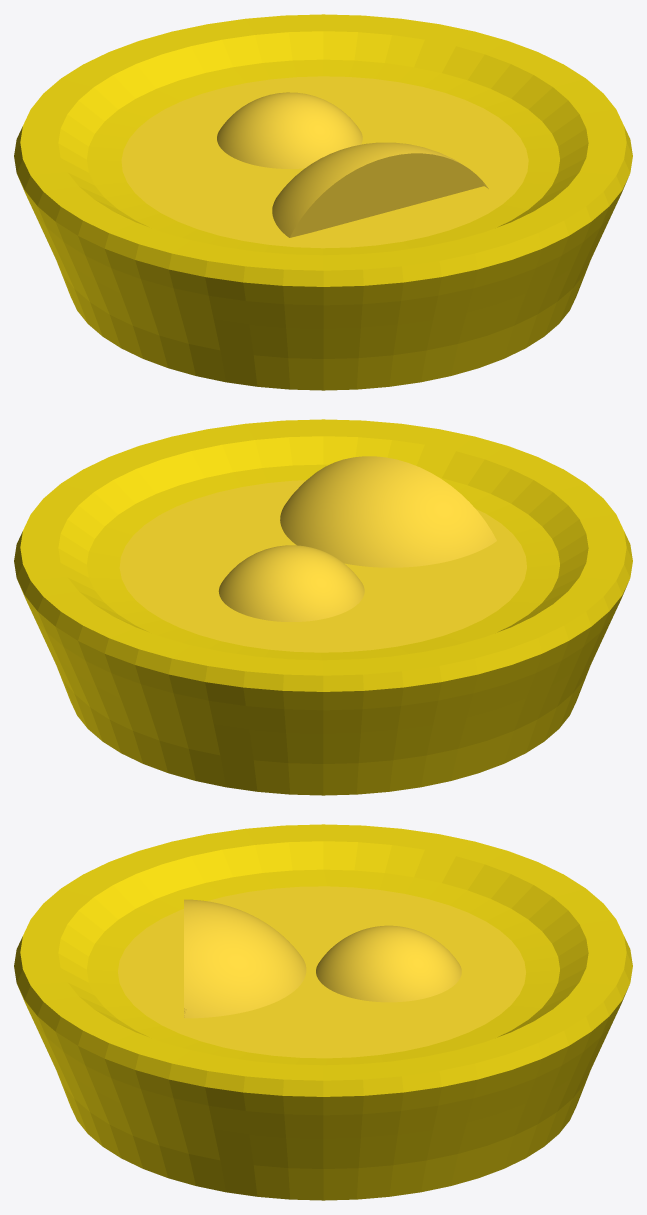
The model's file is token.glb.
The picture shows the model from 3 angles, top to bottom: view 1: azimuth 30°, elevation 25°; view 2: azimuth 150°, elevation 25°; view 3: azimuth 270°, elevation 25°; orthographic projection.
Visible parts, largest first — view 1: Torus, Cylinder.005, Sphere_2.005, Sphere.005; view 2: Torus, Cylinder.005, Sphere_2.005, Sphere.005; view 3: Torus, Cylinder.005, Sphere_2.005, Sphere.005.
Boxes of the visible parts, bbox=[...] form: Torus: bbox=[14, 14, 632, 390]; Cylinder.005: bbox=[121, 76, 528, 248]; Sphere_2.005: bbox=[272, 142, 488, 237]; Sphere.005: bbox=[217, 92, 362, 168]; Torus: bbox=[14, 419, 632, 795]; Cylinder.005: bbox=[119, 480, 526, 652]; Sphere_2.005: bbox=[280, 456, 496, 567]; Sphere.005: bbox=[218, 545, 364, 621]; Torus: bbox=[14, 824, 632, 1200]; Cylinder.005: bbox=[118, 886, 525, 1058]; Sphere_2.005: bbox=[184, 899, 306, 1018]; Sphere.005: bbox=[316, 925, 461, 1002].
Size of the model in its own units: 0.7833 by 0.2622 by 0.7833.
